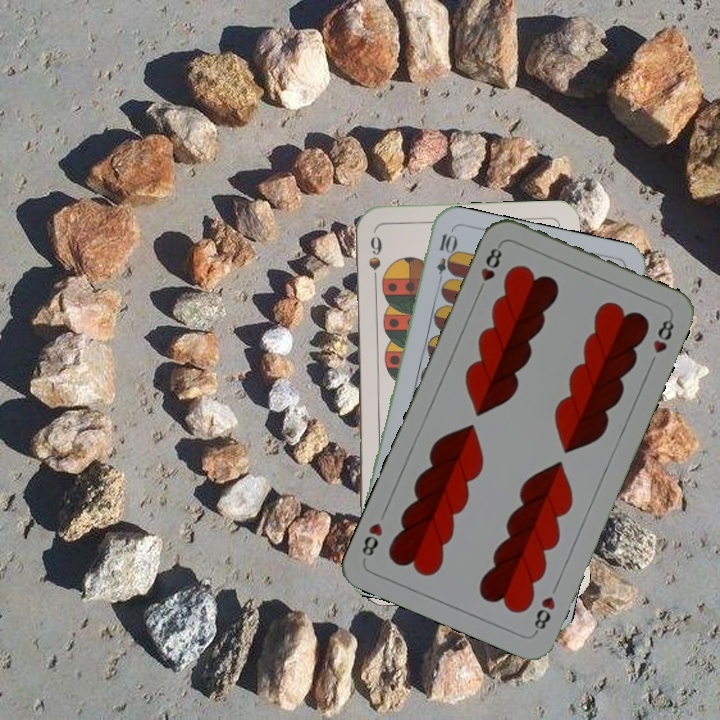E10: (432, 230, 457, 289)
H8: (474, 240, 505, 296), (530, 592, 558, 636)
S9: (364, 232, 385, 289)
